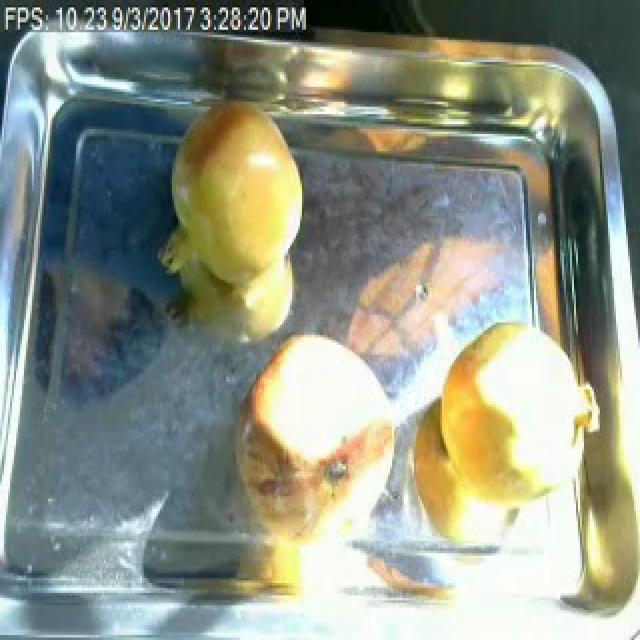fruit: (218, 320, 412, 558), (426, 308, 608, 548), (158, 80, 320, 300)
